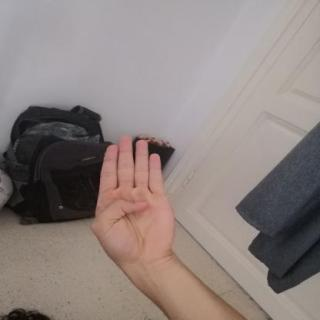KAAF: (78, 128, 187, 275)
